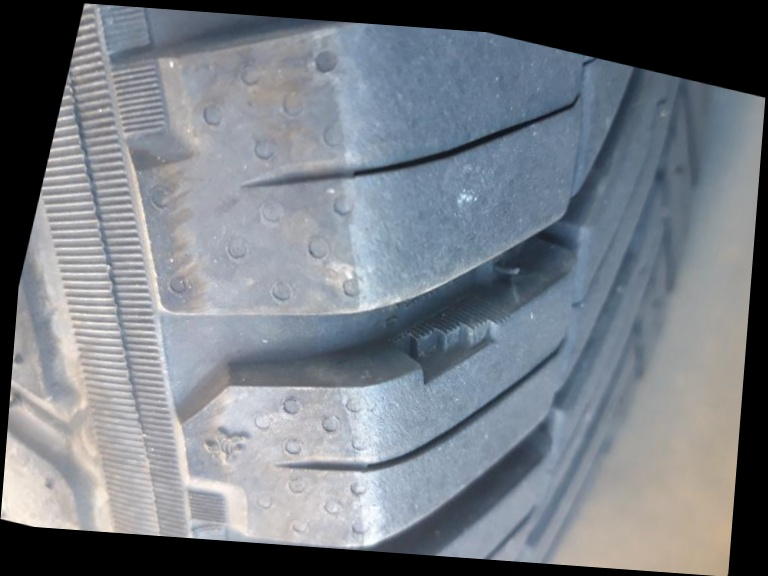temoin:90: (365, 270, 523, 411)
